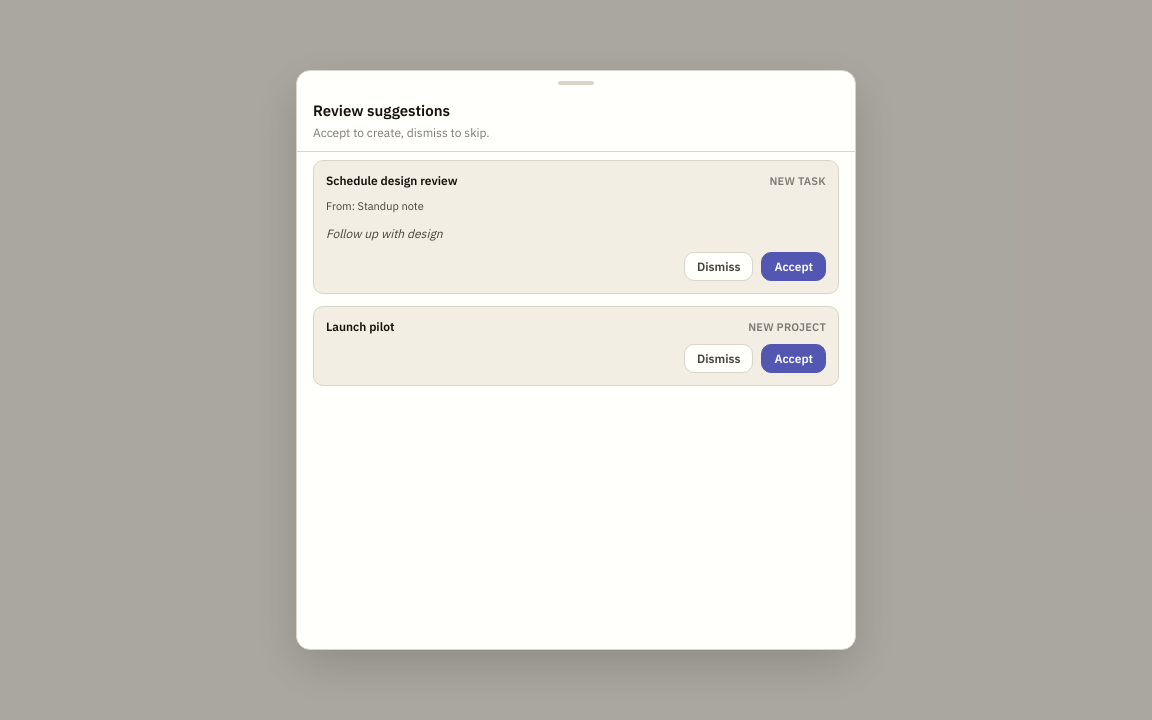
Scenario: V5ReviewSheet › accepts a suggestion and refreshes summary
The width and height of the screenshot is (1152, 720).
Expected: the heading "Schedule design review" is shown, [326,173,458,188]
Click the button "Accept" below "New task" at (794, 267), box [761,252,826,282]
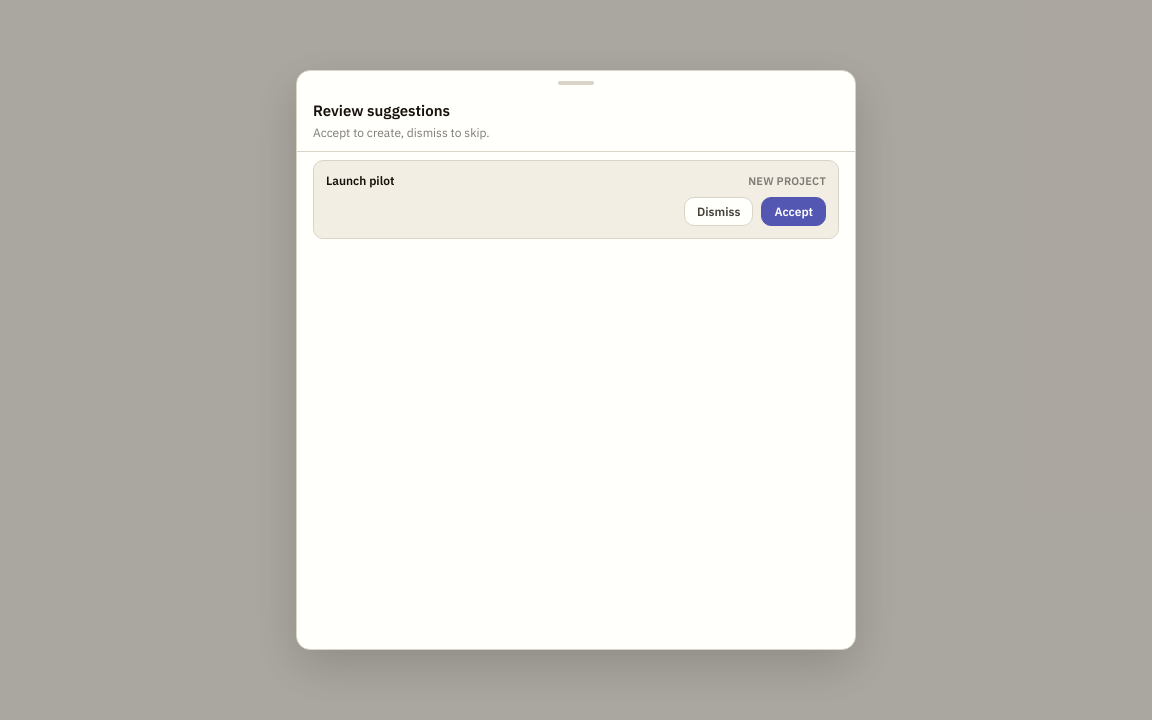
Now the heading "Schedule design review" is gone
